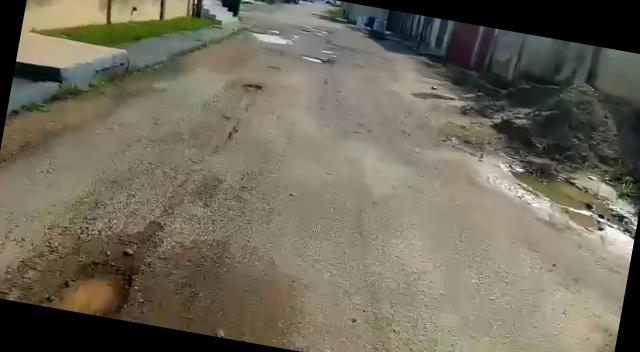pothole: (38, 253, 136, 320), (250, 30, 294, 47), (297, 53, 328, 65), (240, 80, 262, 94)
